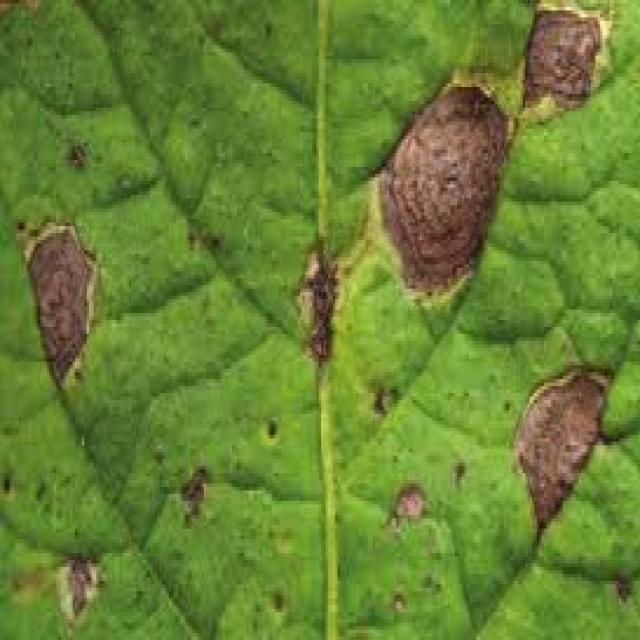earlyblight: (381, 87, 508, 290), (514, 369, 604, 531), (521, 0, 610, 121), (28, 226, 95, 383), (299, 249, 338, 363), (56, 556, 100, 624), (389, 482, 428, 531), (180, 466, 208, 520)
